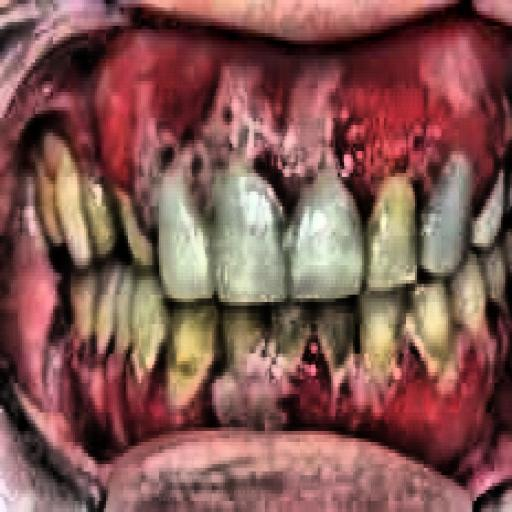Gingivitis: (82, 20, 512, 197), (53, 328, 512, 483)
